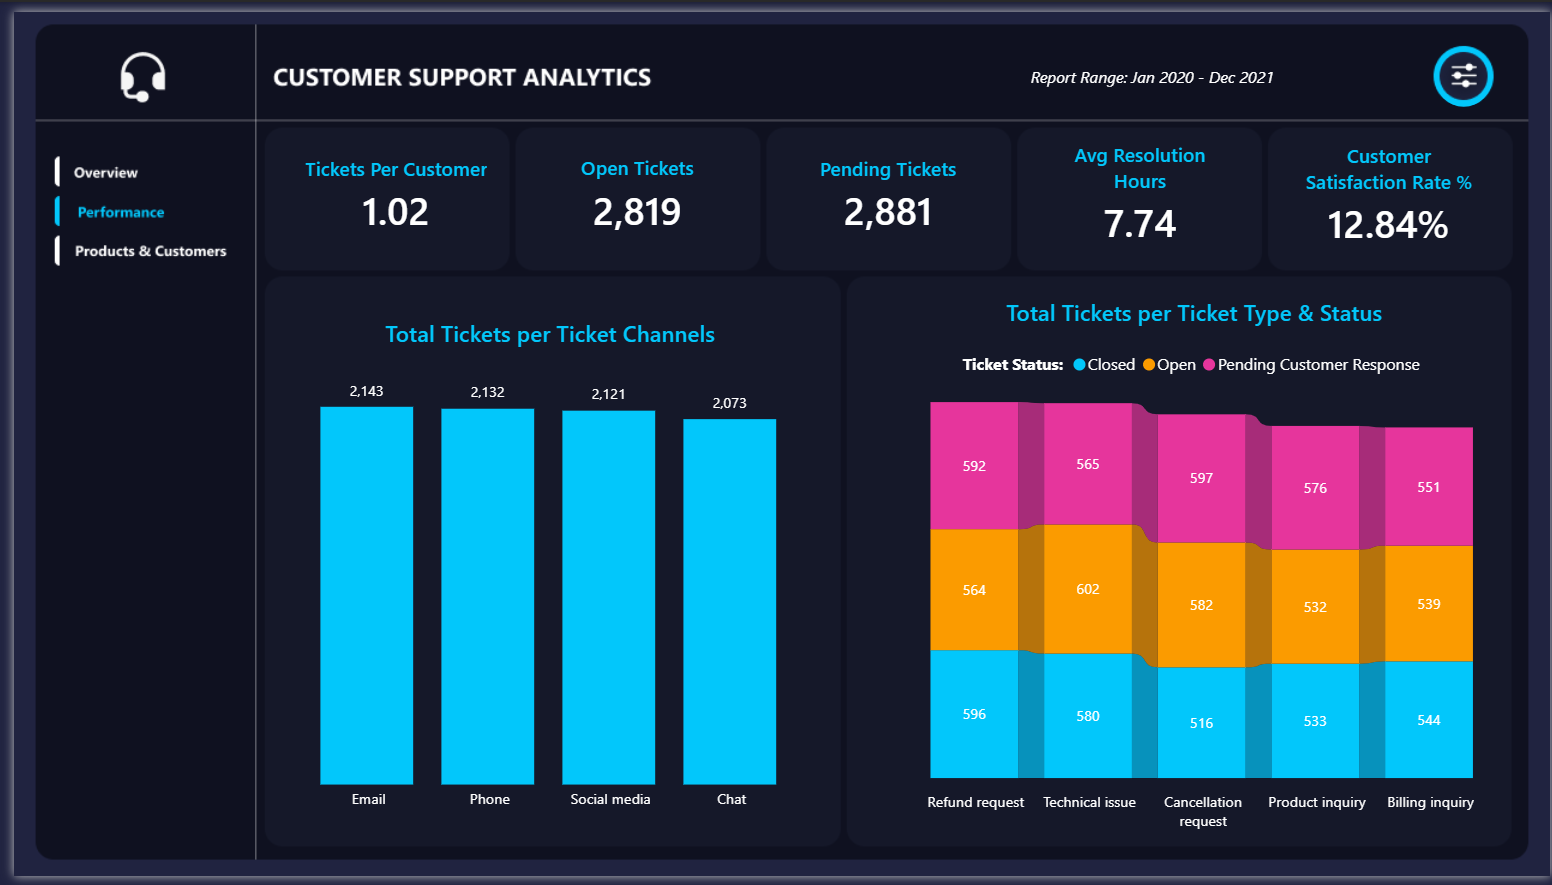

What the dashboard file says about the page in this screenshot:
{"tool":"powerbi","page":{"name":"Performance","canvas":[1280,720],"ordinal":1},"visuals":[{"type":"cardVisual","fields":{"Data":["_Measures.Report Period"]},"box":[817.9,23.6,315.6,60],"z":0},{"type":"cardVisual","fields":{"Data":["_Measures.Avg Resolution Hours"]},"box":[843.5,93.4,190.7,118],"z":1000},{"type":"cardVisual","fields":{"Data":["_Measures.Tickets Per Customer"]},"box":[210.4,93.4,217.3,118],"z":2000},{"type":"cardVisual","fields":{"Data":["_Measures.Open Tickets"]},"box":[427.6,99.3,184.8,106.2],"z":3000},{"type":"cardVisual","fields":{"Data":["_Measures.Pending Tickets"]},"box":[640,103.7,177.9,97.3],"z":4000},{"type":"cardVisual","fields":{"Data":["_Measures.Customer Satisfaction Rate %"]},"box":[1043.1,89,205.5,126.8],"z":5000},{"type":"clusteredColumnChart","title":"Total Tickets per Ticket Channels","fields":{"Category":["fact_ticket_metrics.ticket_channel"],"Y":["_Measures.Total Tickets"]},"box":[210.4,254.6,473.9,418.8],"z":6000},{"type":"columnChart","title":"Total Tickets per Ticket Type & Status","fields":{"Category":["fact_ticket_metrics.ticket_type"],"Series":["fact_ticket_metrics.ticket_status"],"Y":["_Measures.Total Tickets"]},"box":[705.9,237.9,555.5,452.2],"z":7000},{"type":"actionButton","box":[32.2,117.4,142.3,31.2],"z":9000},{"type":"actionButton","box":[32.2,151.7,142.3,31.2],"z":10000},{"type":"actionButton","box":[32.2,186,151.7,31.2],"z":11000},{"type":"actionButton","box":[1184.4,29.1,47.8,49.9],"z":12000}]}

Visuals, with their boxes in screenshot pixels (x1, y1, x2, y2), scaled from the page's 1280x720 canvas onto the 1552x885 screenshot:
cardVisual - _Measures.Report Period: bbox=[992, 29, 1374, 103]
cardVisual - _Measures.Avg Resolution Hours: bbox=[1023, 115, 1254, 260]
cardVisual - _Measures.Tickets Per Customer: bbox=[255, 115, 519, 260]
cardVisual - _Measures.Open Tickets: bbox=[518, 122, 743, 253]
cardVisual - _Measures.Pending Tickets: bbox=[776, 127, 992, 247]
cardVisual - _Measures.Customer Satisfaction Rate %: bbox=[1265, 109, 1514, 265]
"Total Tickets per Ticket Channels" clusteredColumnChart: bbox=[255, 313, 830, 828]
"Total Tickets per Ticket Type & Status" columnChart: bbox=[856, 292, 1529, 848]
actionButton: bbox=[39, 144, 212, 183]
actionButton: bbox=[39, 186, 212, 225]
actionButton: bbox=[39, 229, 223, 267]
actionButton: bbox=[1436, 36, 1494, 97]
